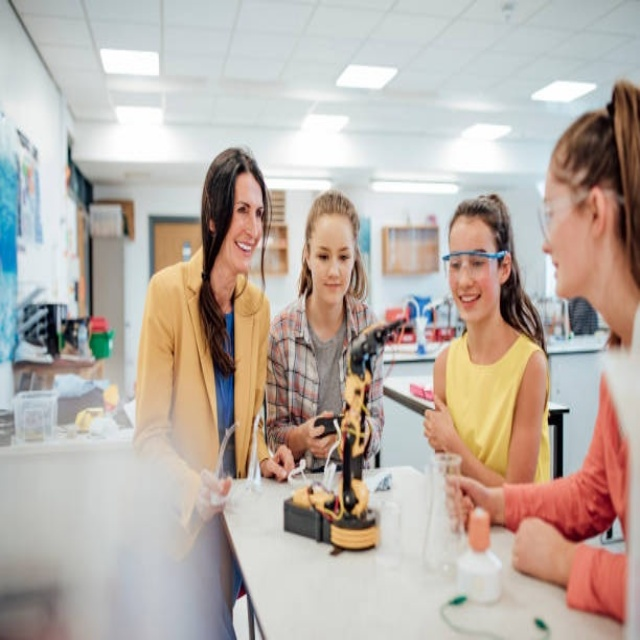Gafas: (537, 190, 627, 242), (442, 248, 509, 279)
Sin_gafas: (312, 234, 355, 270), (235, 195, 265, 229)
Sin_guantes: (511, 507, 570, 588), (442, 467, 493, 532), (422, 389, 463, 460), (303, 405, 338, 458), (266, 439, 293, 486)
Sin_mascara: (544, 249, 574, 296), (456, 285, 483, 318), (232, 232, 259, 264), (317, 276, 345, 300)
